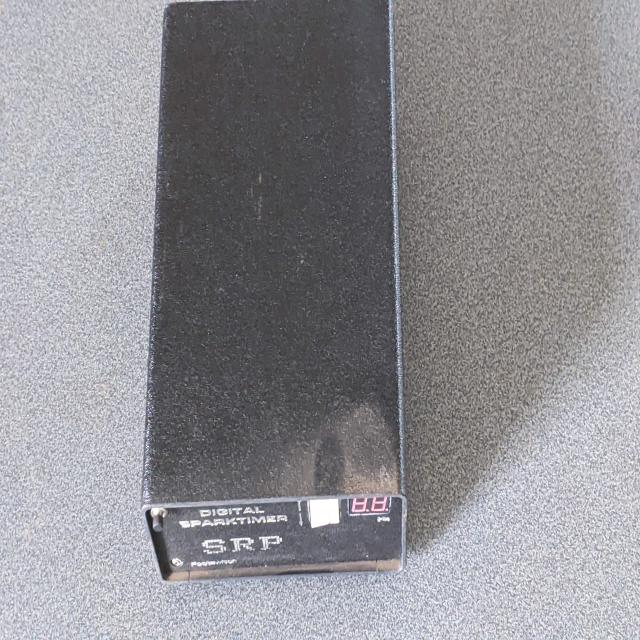SRP Digital Spark Timer: (140, 9, 412, 600)
